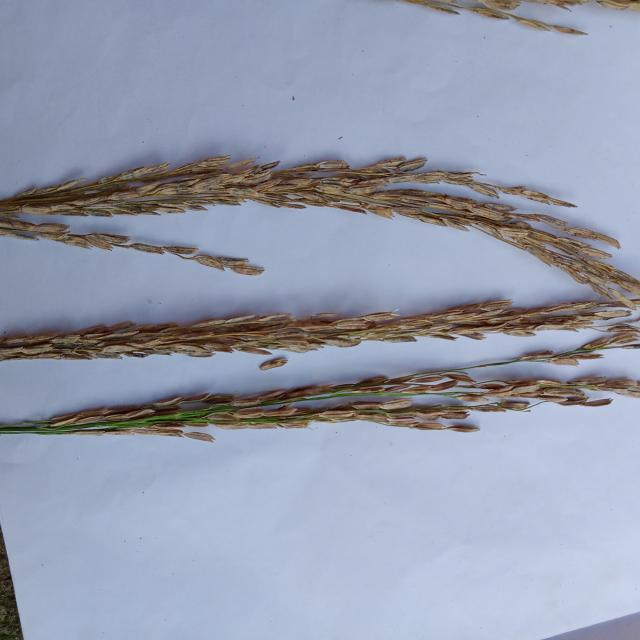Neck_Blast: (0, 162, 632, 294), (0, 297, 593, 361), (37, 372, 599, 426)
